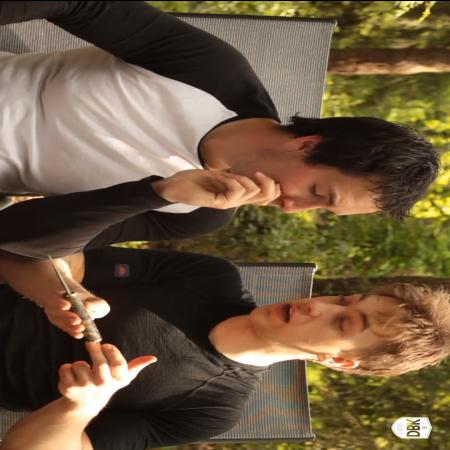long weapon: (38, 249, 112, 344)
